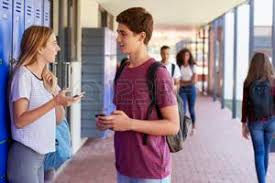person: (108, 12, 174, 105), (12, 20, 72, 113)
